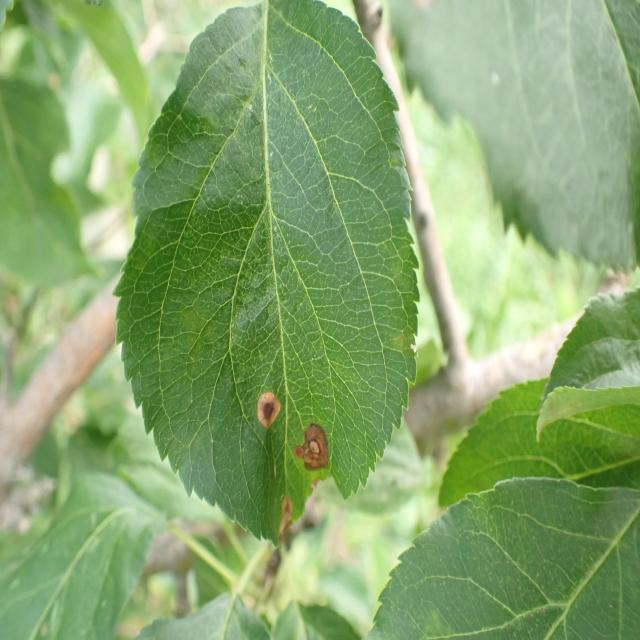Black Rot: (246, 364, 290, 460), (263, 490, 313, 549), (296, 404, 330, 486)
